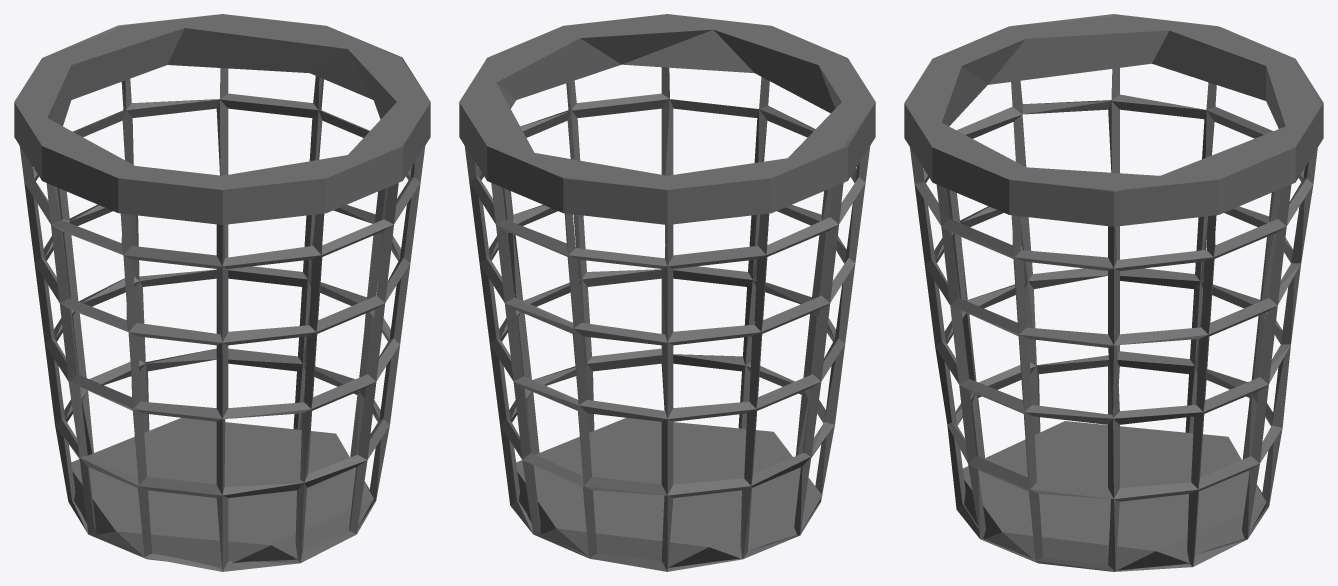
Rendered from Trashcan.fbx.
3 views of the same model, side by side, from view 1: azimuth 30°, elevation 25°; view 2: azimuth 150°, elevation 25°; view 3: azimuth 270°, elevation 25° (orthographic).
Parts seen in each view (by area): view 1: Trashcan; view 2: Trashcan; view 3: Trashcan.
Boxes of the visible parts, bbox=[...] form: Trashcan: bbox=[14, 14, 430, 571]; Trashcan: bbox=[459, 14, 875, 571]; Trashcan: bbox=[904, 14, 1323, 571].
Bounding box in the file's own units: 126 × 135 × 126.
